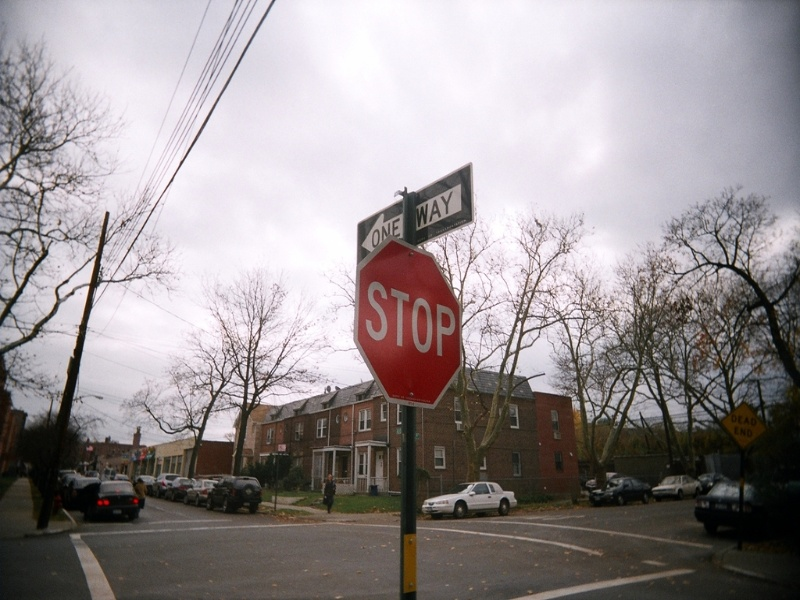one_way: (337, 184, 480, 252)
stop: (348, 249, 470, 402)
